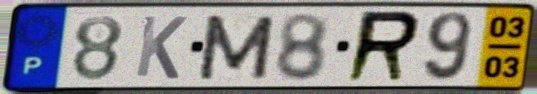8: (67, 11, 126, 84), (272, 11, 329, 83)
9: (418, 10, 480, 84)
K: (132, 13, 190, 82)
M: (194, 13, 278, 82)
R: (342, 8, 425, 85)
